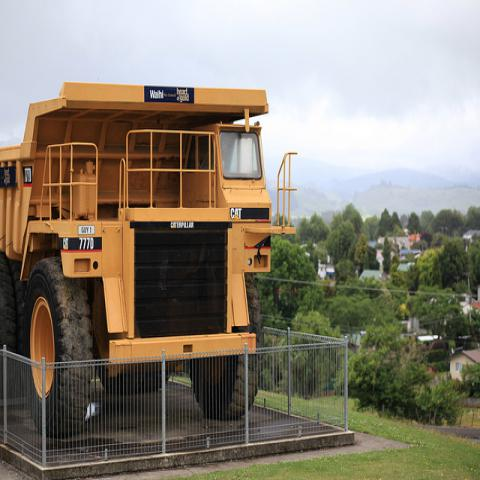truck: (1, 80, 299, 452)
